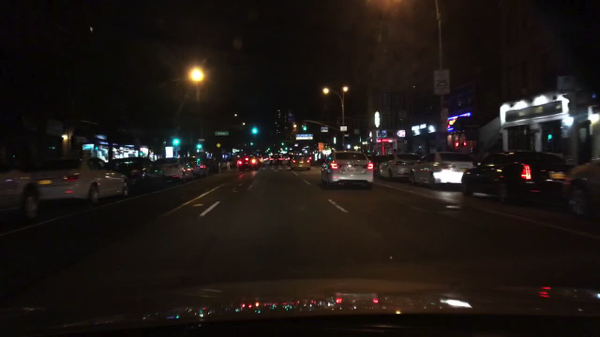car: (460, 150, 577, 205), (34, 156, 130, 211), (408, 151, 473, 189), (1, 161, 41, 222), (558, 159, 598, 216), (320, 150, 374, 192), (107, 156, 166, 193), (376, 151, 422, 182), (154, 156, 194, 186), (183, 156, 210, 180), (236, 153, 261, 170), (366, 154, 385, 175), (289, 153, 310, 171), (206, 158, 220, 172), (269, 153, 283, 166), (225, 156, 237, 168), (255, 155, 264, 167), (260, 158, 266, 165), (282, 156, 289, 161), (264, 156, 270, 161)
traffic light: (172, 138, 179, 147), (251, 126, 257, 134), (302, 122, 307, 131), (345, 143, 351, 149), (266, 146, 271, 152), (280, 141, 285, 147), (196, 143, 201, 148), (249, 141, 254, 146), (284, 145, 287, 151)
traffic sign: (433, 68, 450, 96), (558, 74, 578, 95), (294, 133, 313, 140), (214, 130, 229, 137), (316, 141, 323, 153), (339, 125, 347, 132), (319, 126, 328, 132), (353, 128, 360, 135), (198, 137, 205, 143), (215, 142, 221, 148), (343, 133, 349, 138)
